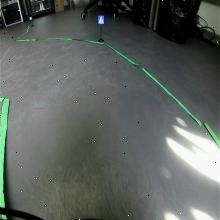crosswalk: (97, 15, 105, 26)
